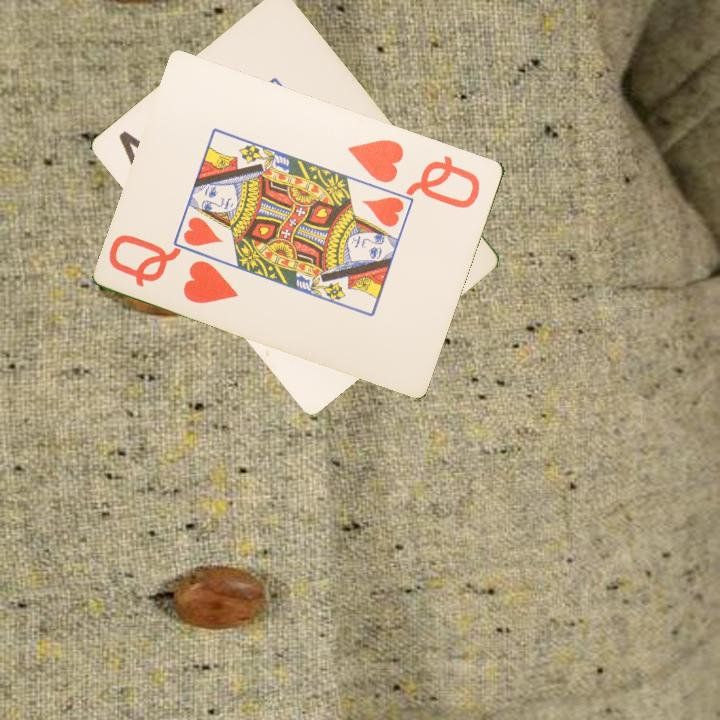Qh: (345, 135, 484, 211), (105, 230, 242, 307)
